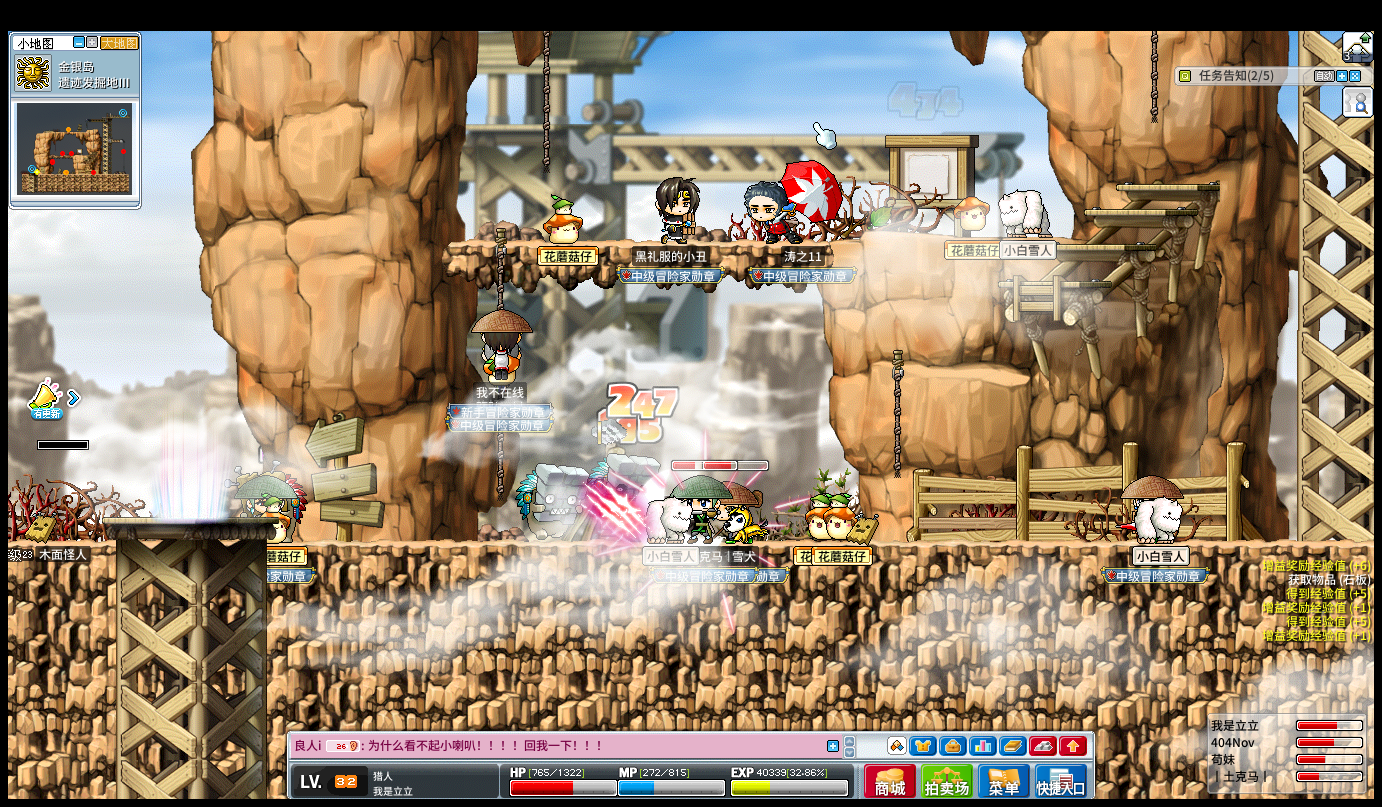floor: (441, 238, 834, 248), (925, 364, 1030, 386), (103, 515, 275, 525), (1079, 207, 1198, 217), (8, 539, 115, 550), (997, 281, 1107, 290), (1115, 183, 1218, 190)
monster: (514, 464, 589, 544), (589, 456, 658, 479)
rope: (889, 349, 903, 480), (542, 28, 551, 176), (492, 229, 506, 309), (1148, 31, 1157, 122), (497, 430, 505, 494)
